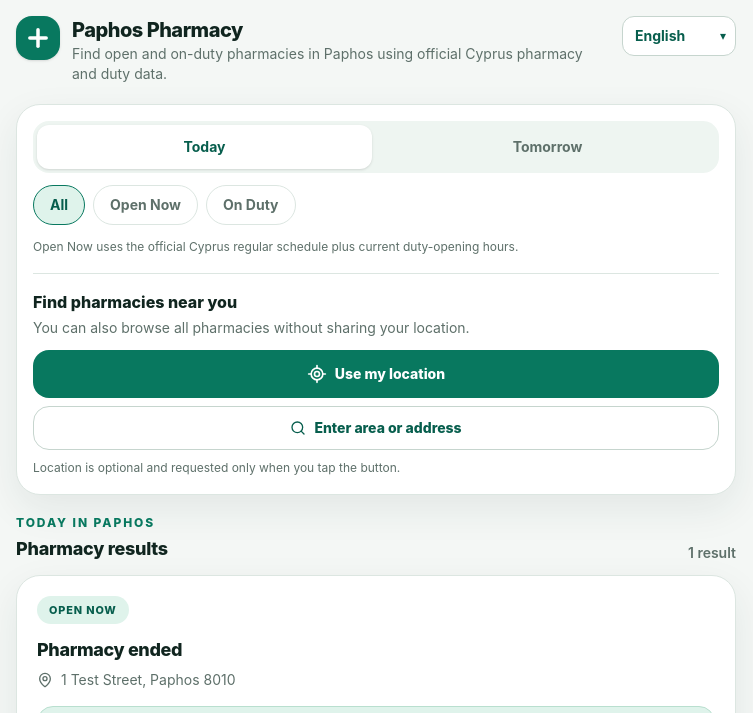
Test case: PharmacyFinder official duty hours › ends previous-day overnight coverage at exactly 08:00
Click the button "On Duty". click: click(251, 205)
box: top-left (206, 185), bottom-right (296, 225)
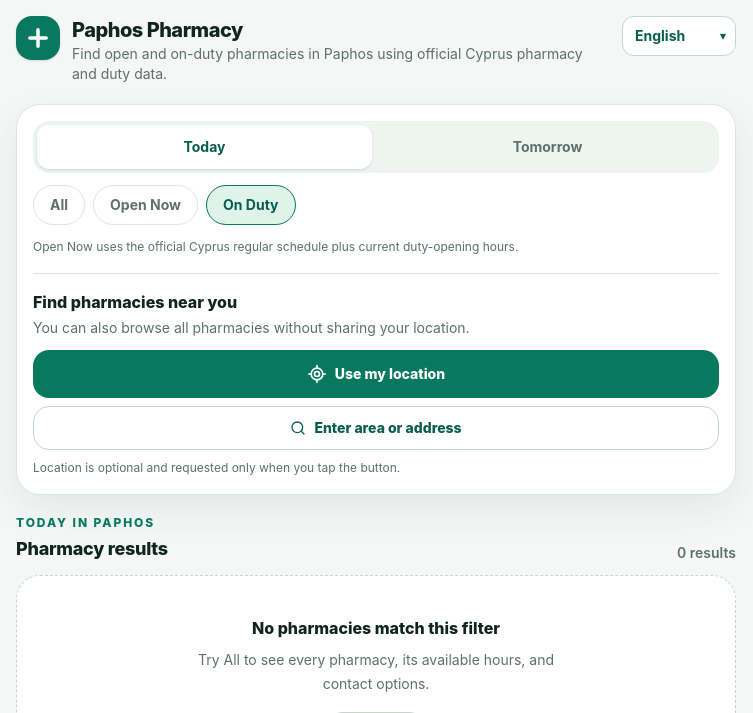
Now the heading "No pharmacies match this filter" is shown, box top-left (252, 618), bottom-right (500, 638)
